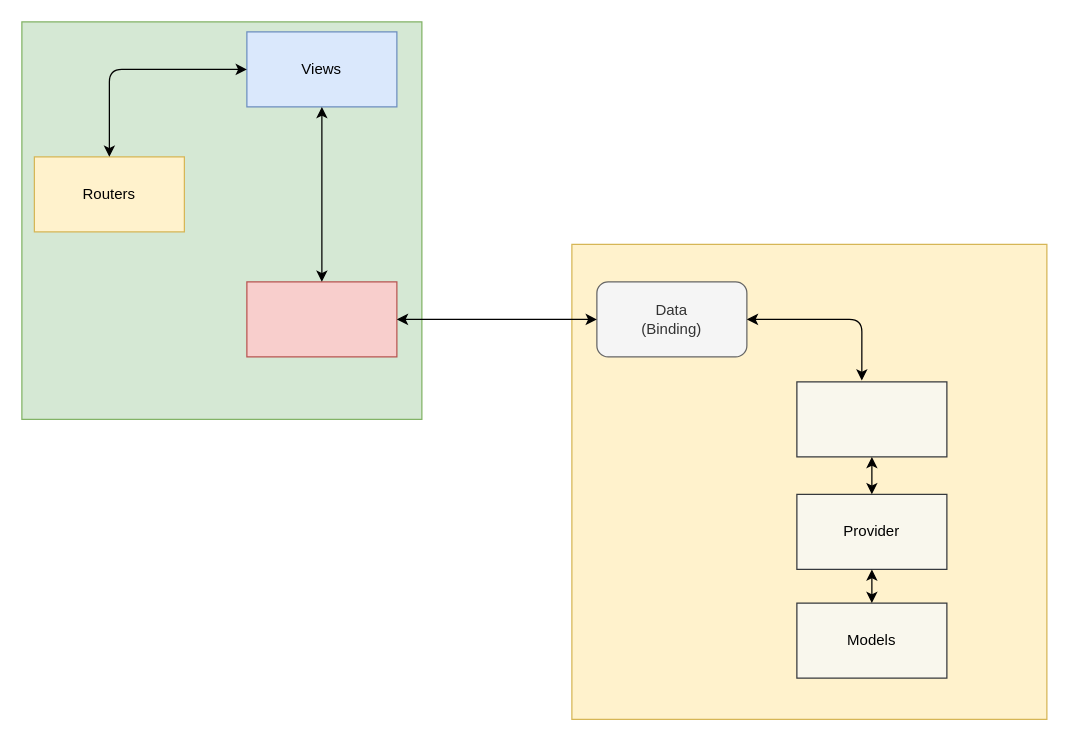
Some shapes in this 1069 by 741 pixel diagram are drawn without their labels. The centre of each missing label's shape, as x and y in pixels:
Controllers: pixel 321 319
Repository: pixel 871 419
